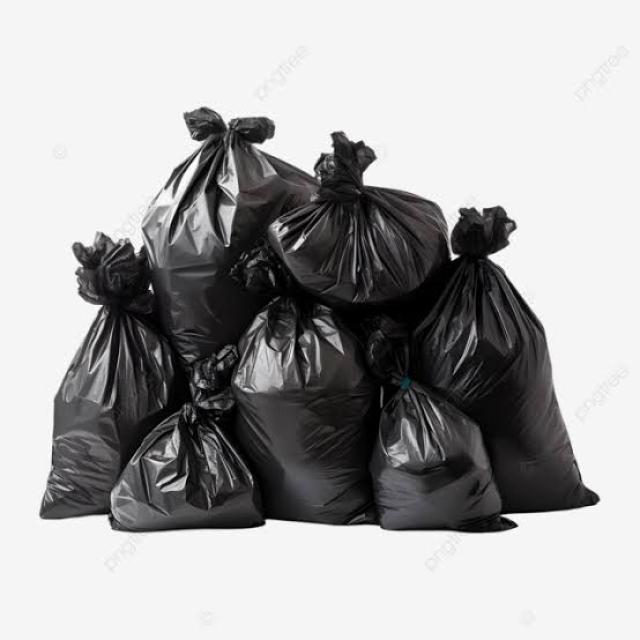Single-layer Plastic: (414, 206, 595, 511), (142, 108, 318, 363), (40, 232, 182, 518), (231, 241, 374, 523), (366, 319, 515, 532), (269, 131, 448, 308), (110, 344, 264, 531)
